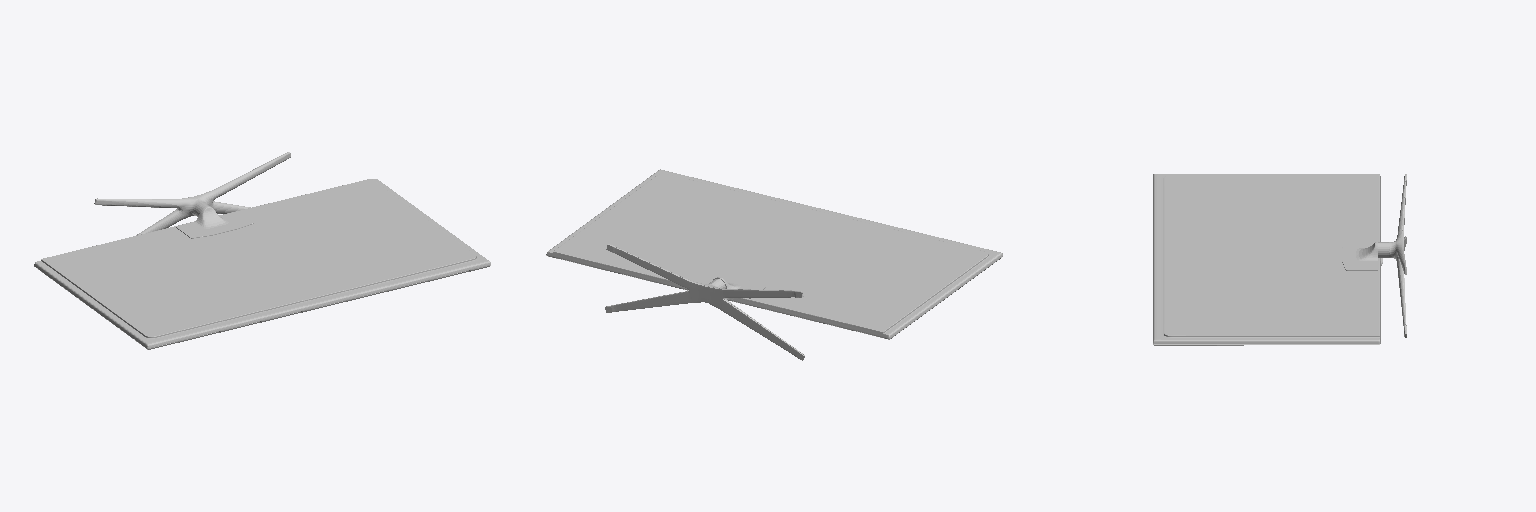
The model's file is Samsung LED TV.obj.
3 renders of one model, left to right at view 1: azimuth 30°, elevation 25°; view 2: azimuth 150°, elevation 25°; view 3: azimuth 270°, elevation 25°, orthographic.
Parts seen in each view (by area): view 1: TV_Backing, Stand_Chrome, Stand_Mount; view 2: TV_Backing, Stand_Base, Stand_Mount; view 3: TV_Backing, Stand_Mount, Stand_Chrome.
Part boxes in pixels (bbox=[...]): TV_Backing: bbox=[34, 179, 490, 348]; Stand_Chrome: bbox=[95, 152, 290, 234]; Stand_Mount: bbox=[175, 206, 253, 238]; TV_Backing: bbox=[546, 169, 1002, 338]; Stand_Base: bbox=[605, 244, 804, 360]; Stand_Mount: bbox=[691, 271, 765, 298]; TV_Backing: bbox=[1153, 174, 1382, 343]; Stand_Mount: bbox=[1342, 239, 1377, 270]; Stand_Chrome: bbox=[1378, 174, 1405, 337].
Size of the model in its own units: 12.32 by 2.37 by 7.89.